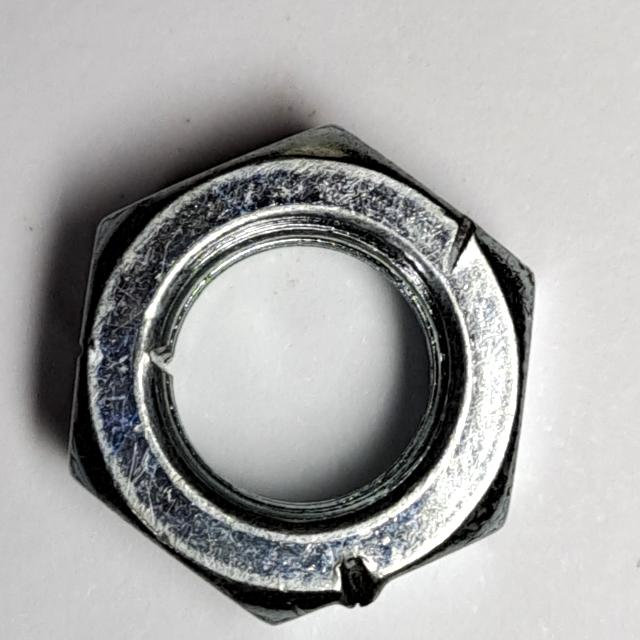Scratches: (60, 117, 546, 640)
